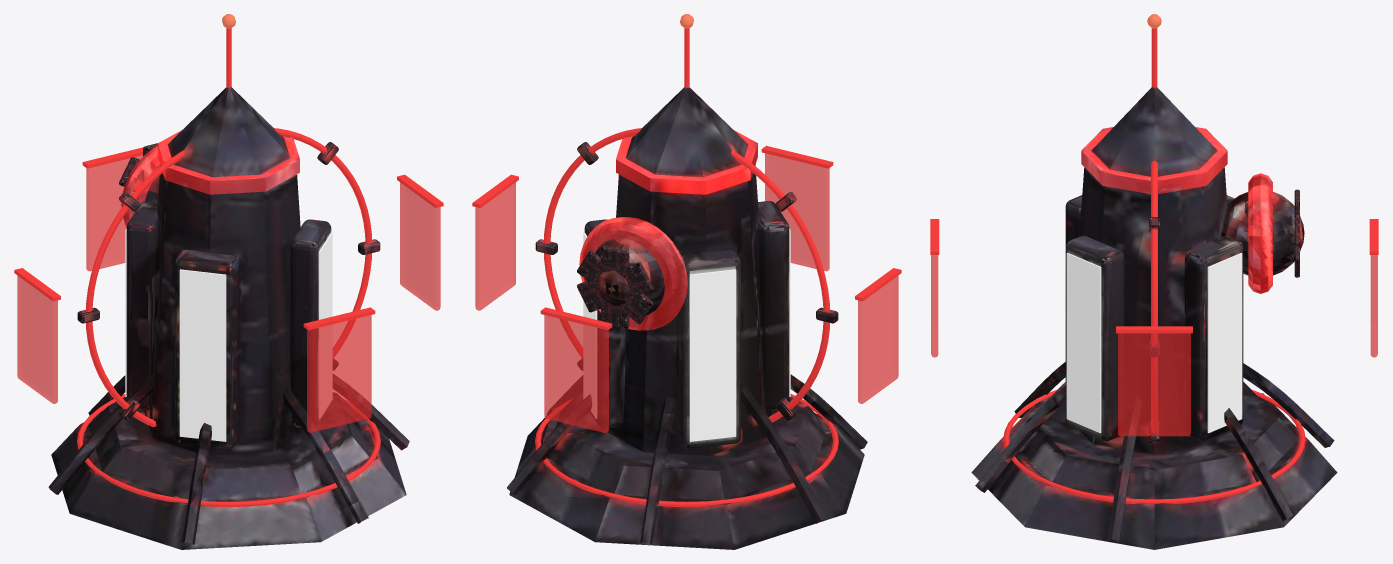
Rendered from mainframe.glb.
The picture shows the model from 3 angles, left to right: view 1: azimuth 30°, elevation 25°; view 2: azimuth 150°, elevation 25°; view 3: azimuth 270°, elevation 25°; orthographic projection.
Parts seen in each view (by area): view 1: tower.001, panel.008, shield, rack, glow, trim.001, glow.003, glow.002, panel.006, trim; view 2: tower.001, panel.008, shield, rack, trim, glow, trim.001, glow.003, tower, glow.002, panel.006, panel (+5 smaller); view 3: tower.001, panel.008, rack, shield, trim.001, tower, trim, glow.003, glow, glow.002.
Boxes of the visible parts, x1,y1,x2,y2 form: tower.001: (51, 87, 406, 549); panel.008: (48, 201, 409, 544); shield: (17, 155, 440, 432); rack: (125, 228, 332, 441); glow: (85, 128, 372, 427); trim.001: (158, 130, 299, 194); glow.003: (77, 28, 380, 507); glow.002: (14, 147, 443, 330); panel.006: (77, 142, 380, 420); trim: (121, 146, 160, 226); tower.001: (509, 87, 864, 549); panel.008: (507, 201, 867, 544); shield: (475, 153, 898, 432); rack: (583, 228, 790, 441); trim: (579, 217, 687, 330); glow: (543, 128, 830, 422); trim.001: (616, 130, 757, 194); glow.003: (535, 28, 838, 507); tower: (595, 238, 664, 317); glow.002: (472, 145, 901, 330); panel.006: (535, 142, 838, 420); panel: (601, 245, 629, 278); tower.001: (971, 87, 1337, 549); panel.008: (975, 195, 1334, 541); rack: (1066, 253, 1242, 433); shield: (931, 255, 1377, 436); trim.001: (1081, 127, 1227, 194); tower: (1221, 192, 1304, 275); trim: (1248, 173, 1272, 293); glow.003: (1003, 28, 1305, 503); glow: (1151, 160, 1157, 443); glow.002: (930, 219, 1378, 333).
Bounding box in the file's own units: 1.23 × 1.38 × 1.23.
8 materials, 3 textured.
